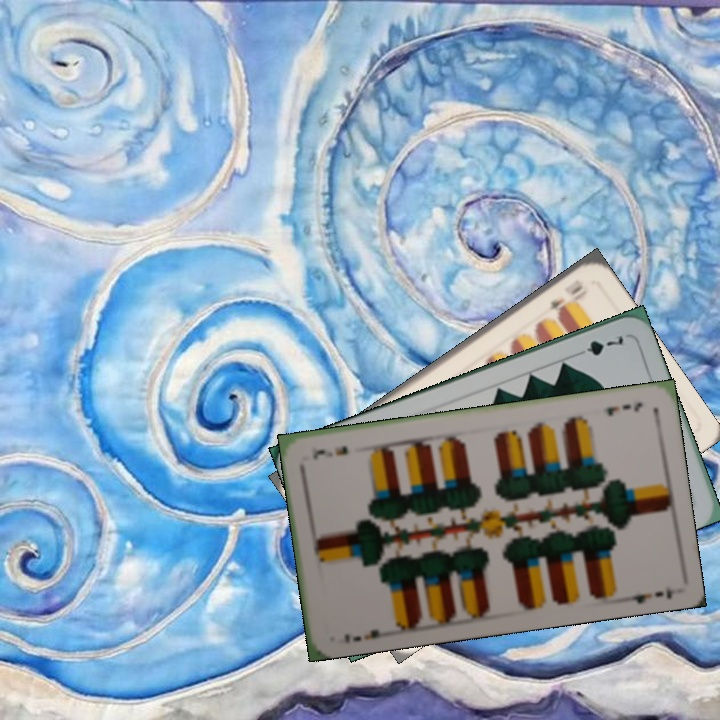E10: (545, 275, 586, 316)
E7: (341, 625, 391, 646), (602, 397, 645, 419)
G7: (570, 331, 626, 360)
